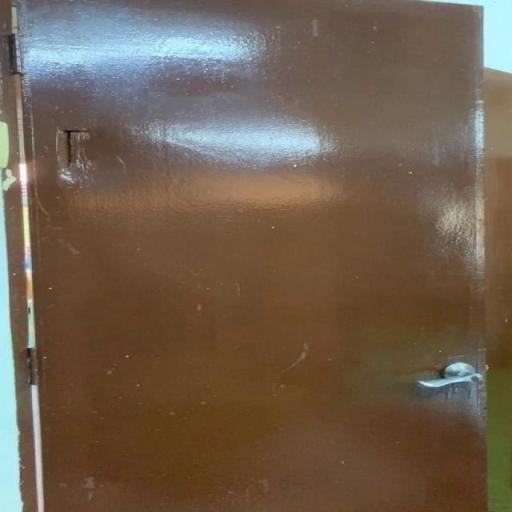door: (8, 0, 494, 510)
